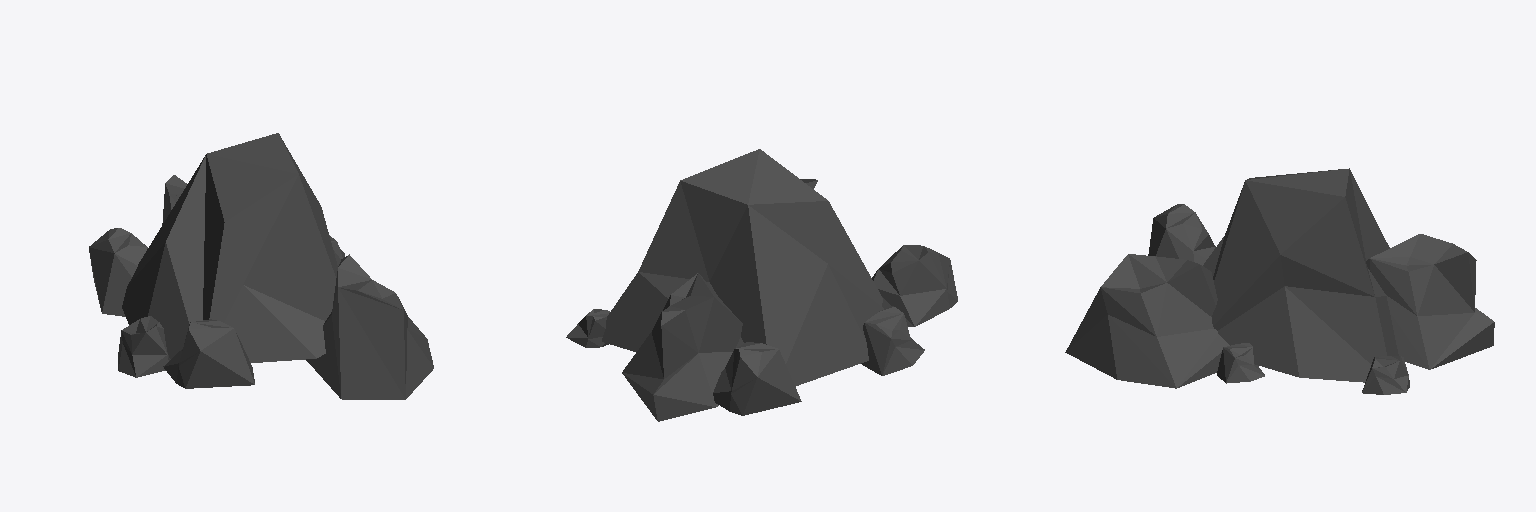
3 views of the same model, side by side, from view 1: azimuth 30°, elevation 25°; view 2: azimuth 150°, elevation 25°; view 3: azimuth 270°, elevation 25° (orthographic).
Parts seen in each view (by area): view 1: group[number redacted], group[number redacted], group[number redacted], group[number redacted], group[number redacted], group[number redacted]; view 2: group[number redacted], group[number redacted], group[number redacted], group[number redacted], group[number redacted], group[number redacted]; view 3: group[number redacted], group[number redacted], group[number redacted], group[number redacted], group[number redacted], group[number redacted].
Part boxes in pixels (x1,y1,x2,y2): group[number redacted]: (122,133,340,362); group[number redacted]: (306,254,433,399); group[number redacted]: (163,319,254,388); group[number redacted]: (89,228,147,316); group[number redacted]: (118,316,170,377); group[number redacted]: (162,175,186,224); group[number redacted]: (602,149,883,386); group[number redacted]: (622,273,742,421); group[number redacted]: (872,245,957,326); group[number redacted]: (713,342,801,415); group[number redacted]: (861,306,924,375); group[number redacted]: (566,309,609,347); group[number redacted]: (1203,168,1398,382); group[number redacted]: (1065,254,1229,388); group[number redacted]: (1366,234,1494,369); group[number redacted]: (1148,204,1215,265); group[number redacted]: (1362,356,1409,394); group[number redacted]: (1217,343,1264,383).
Bounding box in the file's own units: 0.4572 × 0.2732 × 0.6019.